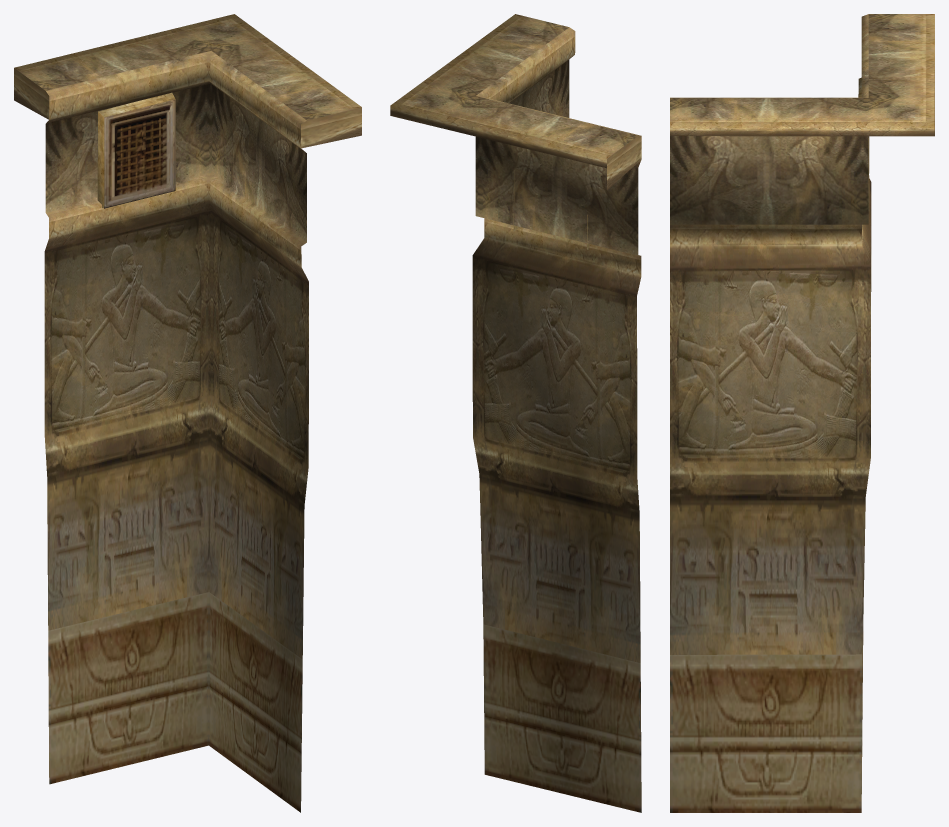
The model's file is S_Build_Desert137.FBX.
The picture shows the model from 3 angles, left to right: view 1: azimuth 30°, elevation 25°; view 2: azimuth 150°, elevation 25°; view 3: azimuth 270°, elevation 25°; orthographic projection. The views are drawn at different scales.
Visible parts, largest first — view 1: S_Build_Desert137; view 2: S_Build_Desert137; view 3: S_Build_Desert137.
Part boxes in pixels (x1=…): S_Build_Desert137: x1=14, y1=14, x2=361, y2=812; S_Build_Desert137: x1=390, y1=14, x2=641, y2=812; S_Build_Desert137: x1=670, y1=14, x2=934, y2=812.
Bounding box in the file's own units: 1396 × 1397 × 4180.
